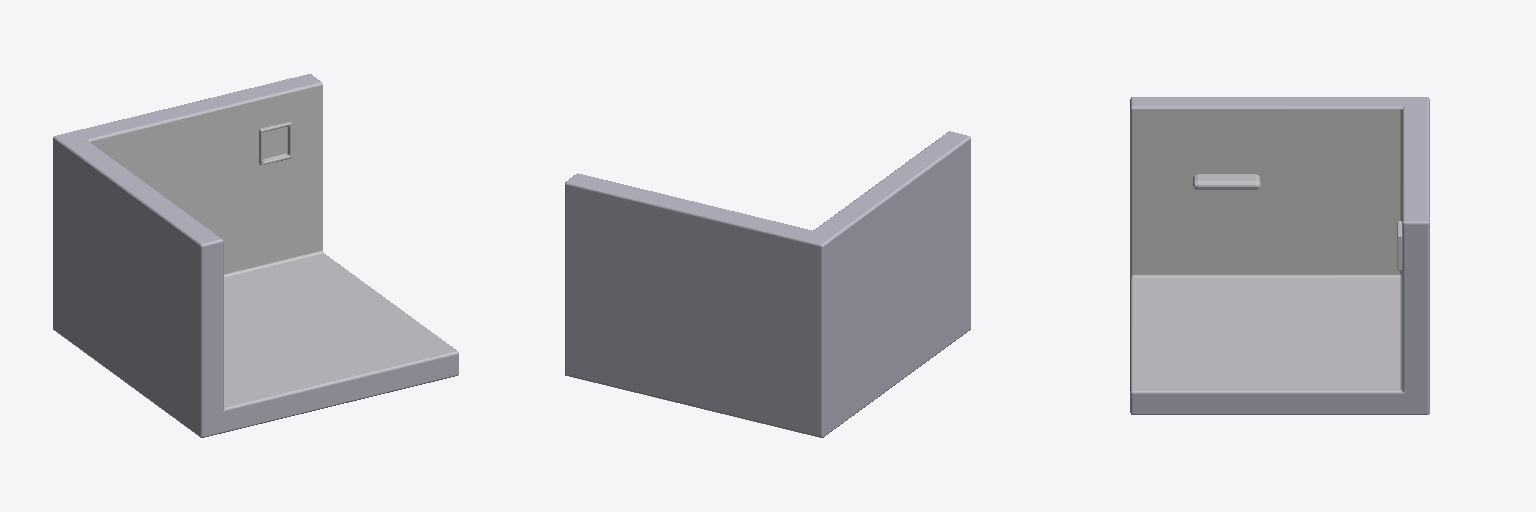
The model's file is room.obj.
The picture shows the model from 3 angles: view 1: azimuth 30°, elevation 25°; view 2: azimuth 150°, elevation 25°; view 3: azimuth 270°, elevation 25°; orthographic projection.
Visible parts, largest first — view 1: Plane, Plane.002; view 2: Plane; view 3: Plane, Plane.001.
Part boxes in pixels (x1,y1,x2,y2): Plane: (53, 74, 458, 437); Plane.002: (259, 122, 291, 165); Plane: (565, 131, 970, 437); Plane: (1130, 97, 1429, 414); Plane.001: (1193, 174, 1260, 189).
Size of the model in its own units: 8.8 by 6.3 by 8.8.